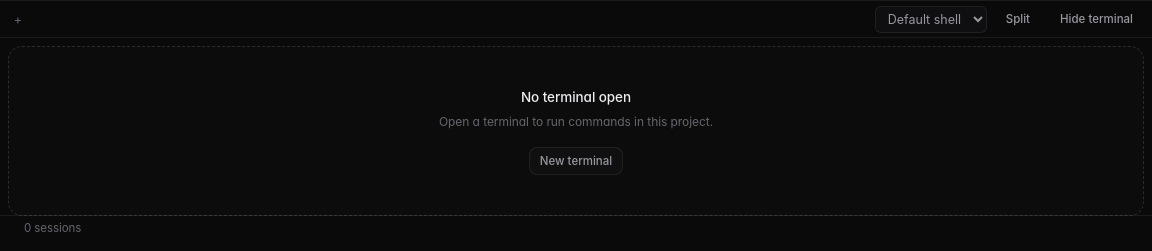
Test: TerminalPanel › closes a tab through the kernel
Click the button named "New terminal" at (18, 19), box [8,9,28,29]
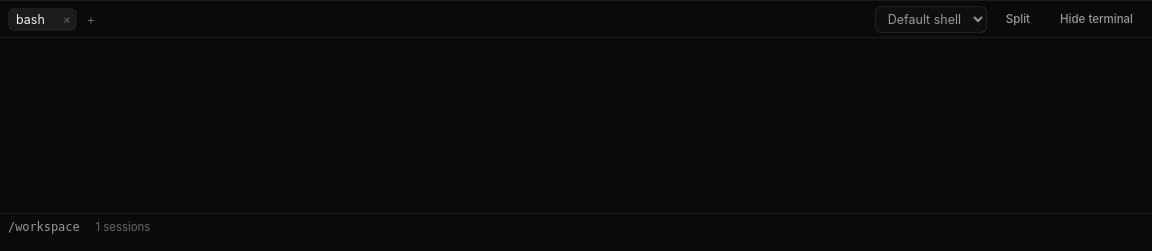
Expected: the number of tabs is 1, [8,8,53,30]
Click the button named "Close bash" at (67, 19), box [57,9,77,29]
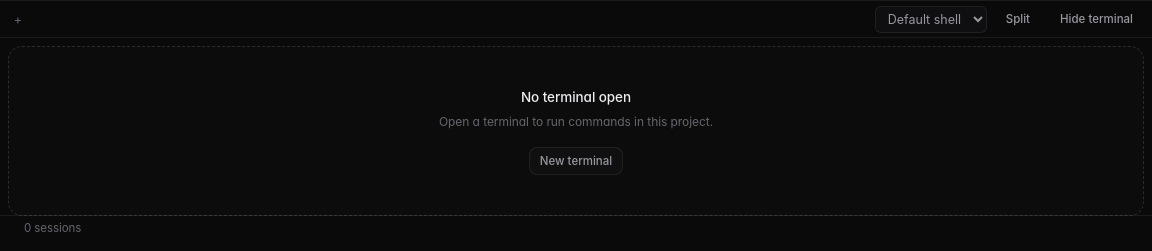
Expected: no tabs are shown
Expected: the text "No terminal open" is shown, [521,87,631,109]
